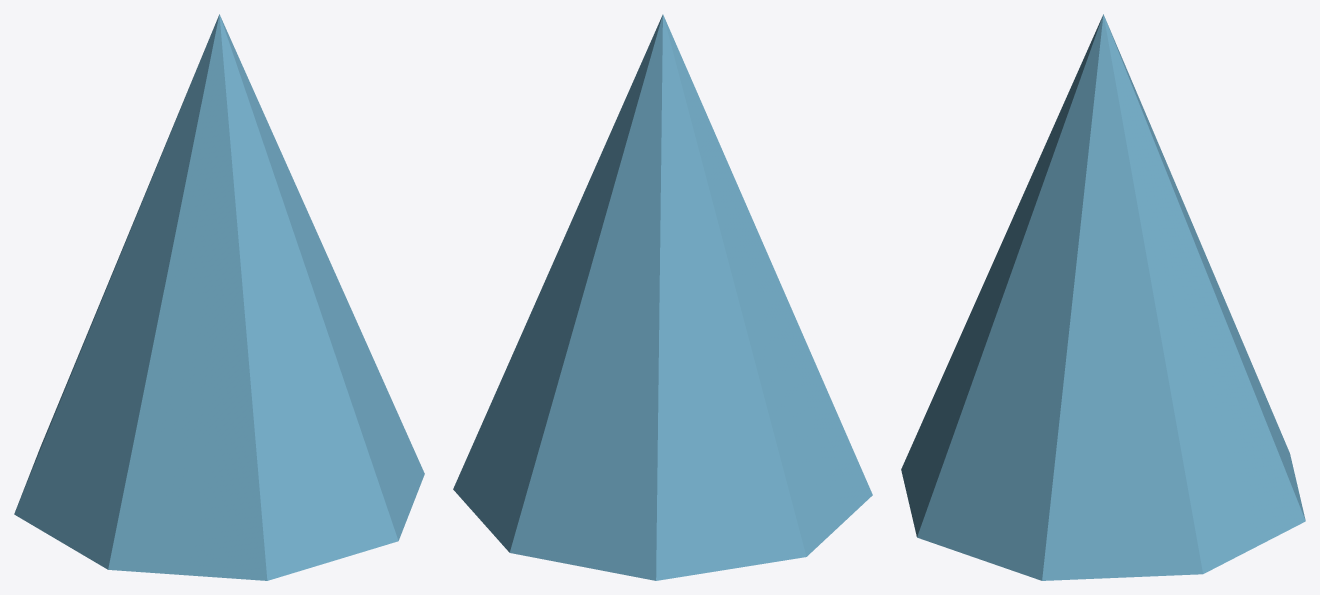
The picture shows the model from 3 angles, left to right: view 1: azimuth 30°, elevation 25°; view 2: azimuth 150°, elevation 25°; view 3: azimuth 270°, elevation 25°; orthographic projection.
Visible parts, largest first — view 1: P2_Cone_Lo; view 2: P2_Cone_Lo; view 3: P2_Cone_Lo.
Boxes of the visible parts, <box> form: P2_Cone_Lo: <box>14,14,424,580</box>; P2_Cone_Lo: <box>453,14,872,580</box>; P2_Cone_Lo: <box>901,14,1305,580</box>.
Size of the model in its own units: 0.6856 by 0.8999 by 0.6856.
